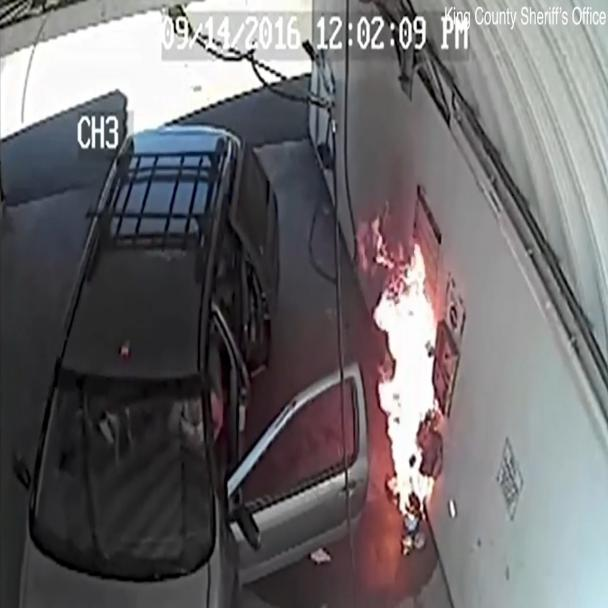Fire: (344, 160, 497, 533)
